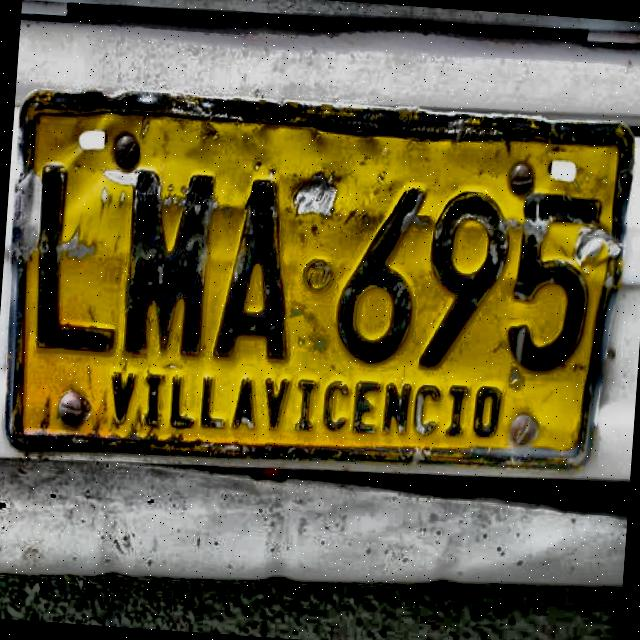5: (500, 193, 606, 378)
6: (333, 180, 431, 370)
9: (413, 184, 511, 373)
A: (209, 174, 293, 364)
L: (31, 158, 118, 361)
M: (119, 168, 218, 363)
